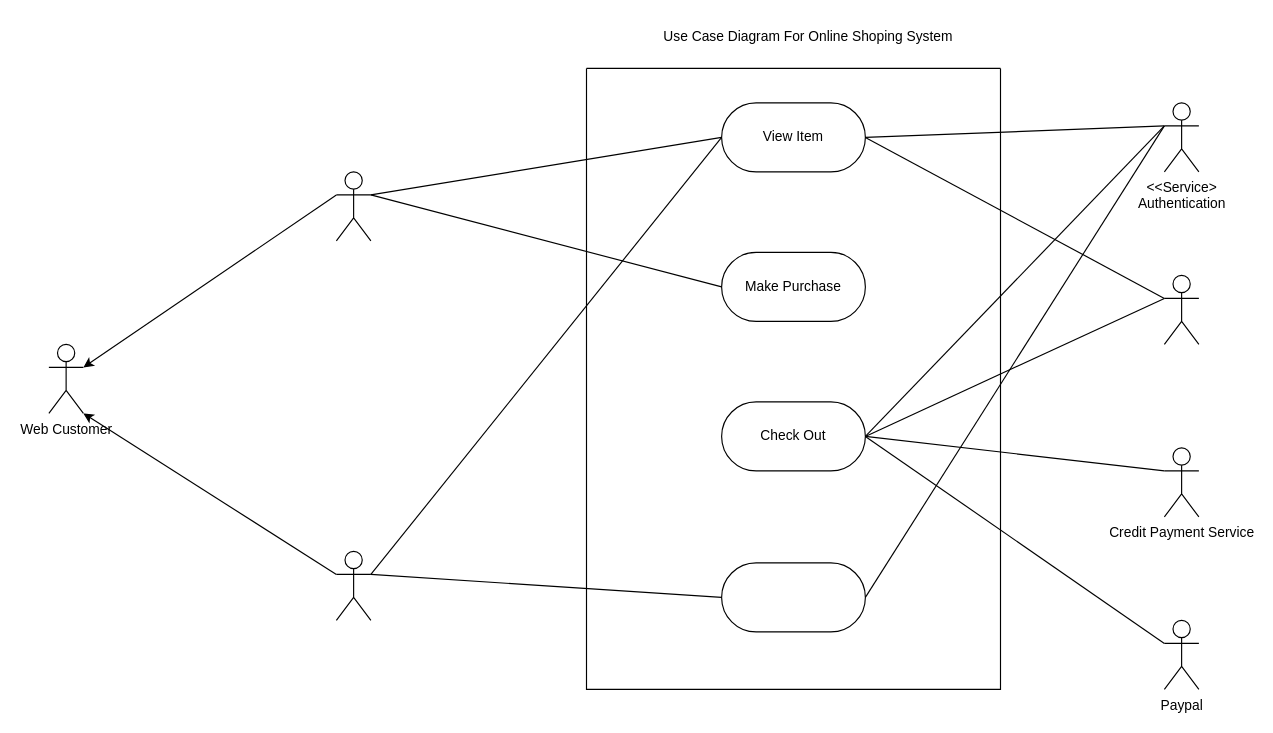
Image size: 1273x733. Some labels were removed from this diagram. The shapes that lost their labels are listed below. From the top down, each one's centre as x and y in pixels, then its label:
At point (353, 206): "Registered Customer".
At point (1181, 309): "identity Provider".
At point (353, 585): "New Customer".
At point (792, 597): "Client Registration".
